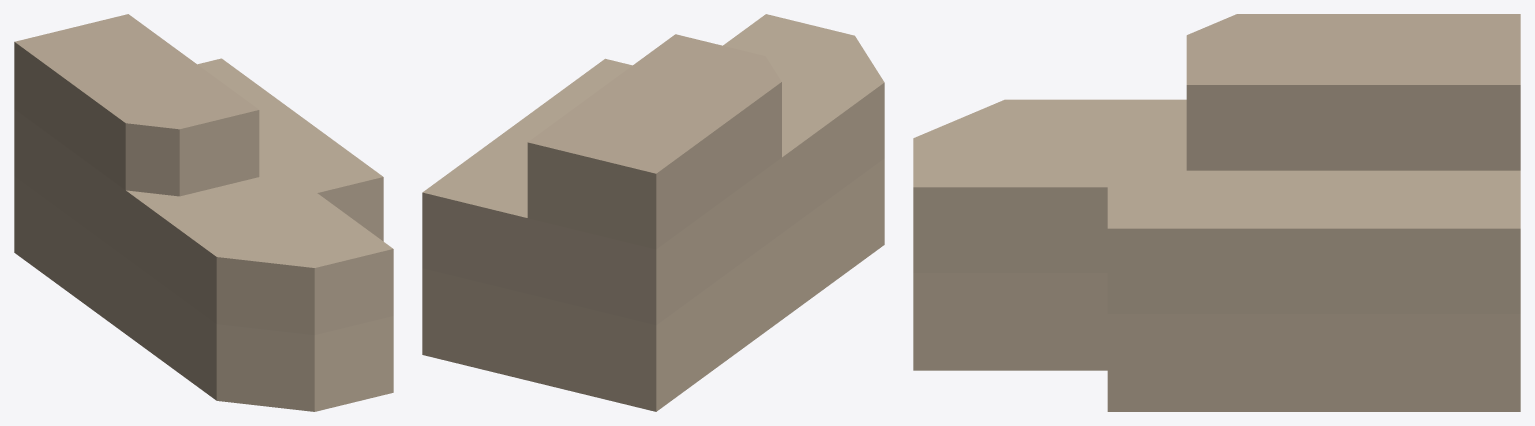
The model's file is massing.glb.
3 renders of one model, left to right at view 1: azimuth 30°, elevation 25°; view 2: azimuth 150°, elevation 25°; view 3: azimuth 270°, elevation 25°, orthographic. The views are drawn at different scales.
Visible parts, largest first — view 1: main/floor2/0, main/floor3/0, main/floor1/0; view 2: main/floor2/0, main/floor1/0, main/floor3/0; view 3: main/floor2/0, main/floor1/0, main/floor3/0.
Part boxes in pixels (left/top/right/bottom): main/floor2/0: left=14, top=58, right=393, bottom=335; main/floor3/0: left=14, top=14, right=259, bottom=196; main/floor1/0: left=14, top=176, right=393, bottom=411; main/floor2/0: left=422, top=14, right=884, bottom=325; main/floor1/0: left=422, top=158, right=884, bottom=411; main/floor3/0: left=527, top=34, right=781, bottom=249; main/floor2/0: left=913, top=99, right=1520, bottom=313; main/floor1/0: left=913, top=273, right=1520, bottom=411; main/floor3/0: left=1186, top=14, right=1520, bottom=170.
Bounding box in the file's own units: 9.04 × 8.8 × 18.
